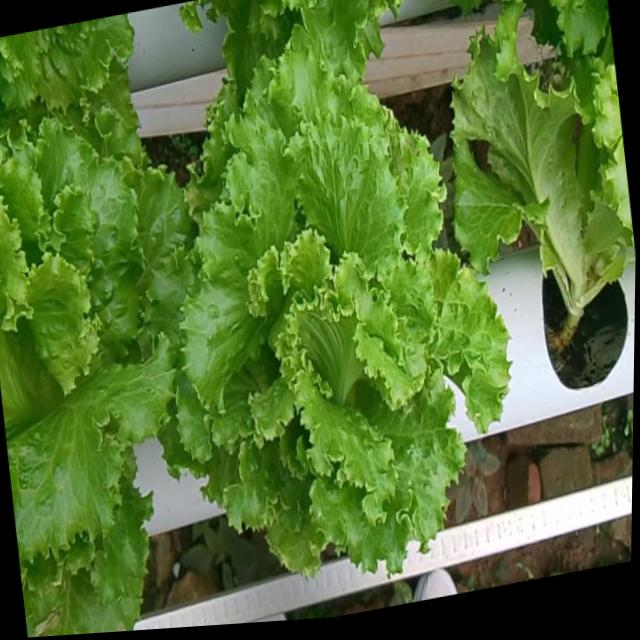Mature: (172, 61, 505, 586), (0, 129, 189, 578)
